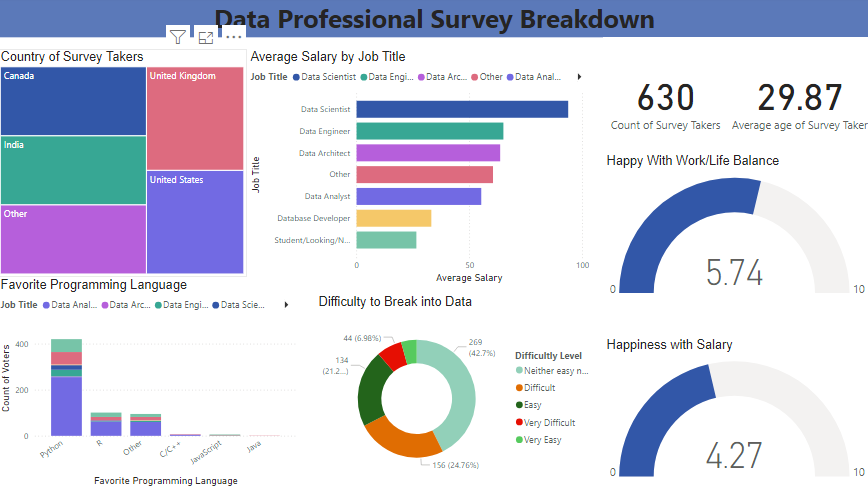

What the dashboard file says about the page in this screenshot:
{"tool":"powerbi","page":{"name":"Page 1","canvas":[1280,720],"ordinal":0},"visuals":[{"type":"textbox","box":[0,0,1280,58.8],"z":0},{"type":"card","fields":{"Values":["CountNonNull(Data Professional Survey (2).Unique ID)"]},"box":[886.9,58.8,183.1,181.4],"z":1000},{"type":"card","fields":{"Values":["Avg(Data Professional Survey (2).Q10 - Current Age)"]},"box":[1070,58.8,210,181.4],"z":2000},{"type":"barChart","title":"Average Salary by Job Title","fields":{"Category":["Data Professional Survey (2).Q1 - Which Title Best Fits your Current Role?.1"],"Y":["Avg(Data Professional Survey (2).Average Salary)"],"Series":["Data Professional Survey (2).Q1 - Which Title Best Fits your Current Role?.1"]},"box":[366.2,75.6,505.6,347.7],"z":3000},{"type":"columnChart","title":"Favorite Programming Language","fields":{"Category":["Data Professional Survey (2).Q5 - Favorite Programming Language.1"],"Y":["CountNonNull(Data Professional Survey (2).Unique ID)"],"Series":["Data Professional Survey (2).Q1 - Which Title Best Fits your Current Role?.1"]},"box":[0,409.9,443.5,310.8],"z":4000},{"type":"treemap","title":"Country of Survey Takers","fields":{"Group":["Data Professional Survey (2).Q11 - Which Country do you live in?.1"],"Values":["Count(Data Professional Survey (2).Q11 - Which Country do you live in?.1)"]},"box":[0,75.6,366.2,334.3],"z":5000},{"type":"gauge","title":"Happy With Work/Life Balance","fields":{"Y":["Avg(Data Professional Survey (2).Q6 - How Happy are you in your Current Position with the following? (Work/Life Balance)"],"MinValue":["Min(Data Professional Survey (2).Q6 - How Happy are you in your Current Position with the following? (Work/Life Balance)"],"MaxValue":["Max(Data Professional Survey (2).Q6 - How Happy are you in your Current Position with the following? (Work/Life Balance)"]},"box":[886.9,228.5,393.1,225.1],"z":6000},{"type":"gauge","title":"Happiness with Salary","fields":{"Y":["Avg(Data Professional Survey (2).Q6 - How Happy are you in your Current Position with the following? (Salary))"],"MinValue":["Min(Data Professional Survey (2).Q6 - How Happy are you in your Current Position with the following? (Salary))"],"MaxValue":["Max(Data Professional Survey (2).Q6 - How Happy are you in your Current Position with the following? (Salary))"]},"box":[886.9,497.2,393.1,223.4],"z":7000},{"type":"donutChart","title":"Difficulty to Break into Data","fields":{"Category":["Data Professional Survey (2).Q7 - How difficult was it for you to break into Data?"],"Y":["CountNonNull(Data Professional Survey (2).Q7 - How difficult was it for you to break into Data?)"]},"box":[465.3,435.1,421.6,285.6],"z":8000}]}

Visuals, with their boxes on the page's 1280x720 design canvas (x1, y1, x2, y2). These are canvas units, not pixel positions in the 868x488 screenshot, which may show the page scaled, cropped or inside an application window:
textbox: 0,0,1280,59
card - CountNonNull(Data Professional Survey (2).Unique ID): 887,59,1070,240
card - Avg(Data Professional Survey (2).Q10 - Current Age): 1070,59,1280,240
"Average Salary by Job Title" barChart: 366,76,872,423
"Favorite Programming Language" columnChart: 0,410,444,721
"Country of Survey Takers" treemap: 0,76,366,410
"Happy With Work/Life Balance" gauge: 887,228,1280,454
"Happiness with Salary" gauge: 887,497,1280,721
"Difficulty to Break into Data" donutChart: 465,435,887,721
